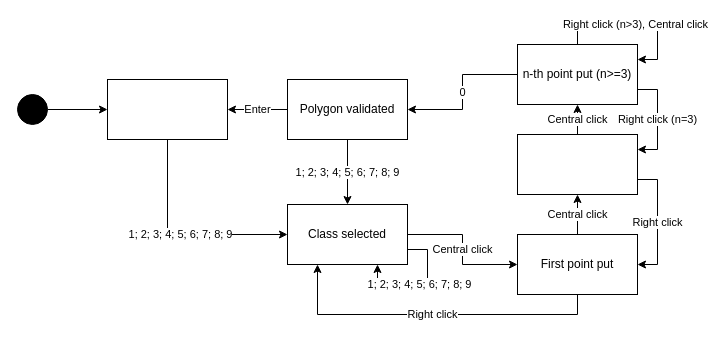
Image size: 725x340. Some labels were removed from this diagram. Here are the shapes that lost their labels. From the top down, the centre of each, then its label:
point 167,109: New image
point 577,164: Second point put
